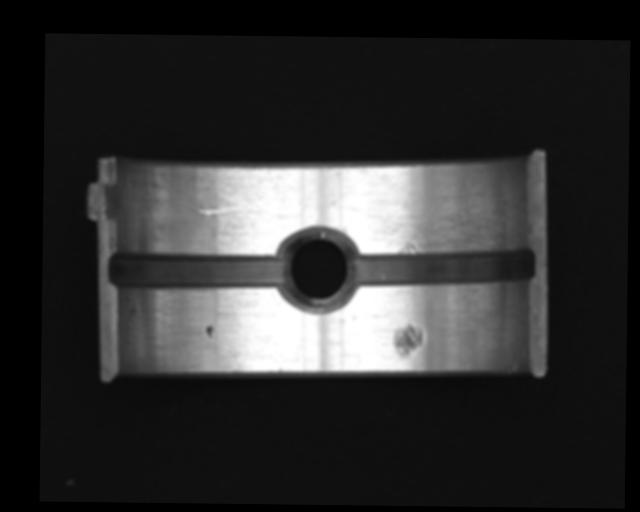bruise: (395, 321, 424, 359), (205, 324, 214, 340)
gap: (348, 244, 535, 289), (108, 251, 288, 289)
hole: (279, 225, 357, 314)
nick: (196, 201, 259, 216)
scratch: (350, 179, 515, 257)
